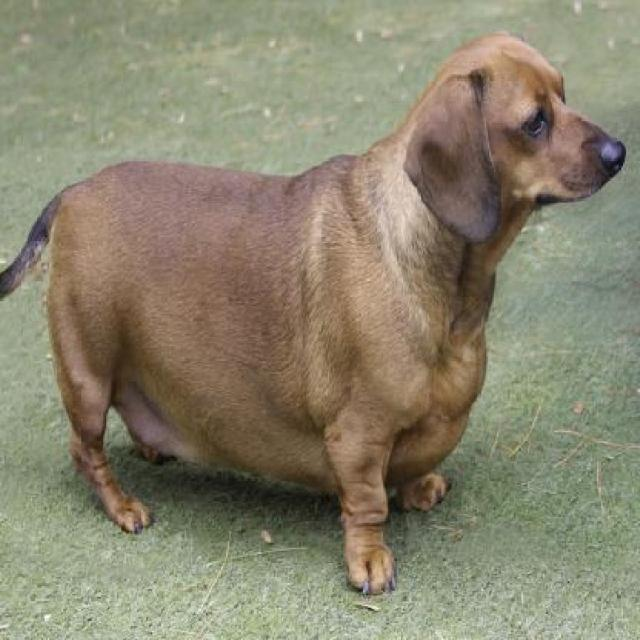Dog: (4, 21, 630, 602)
